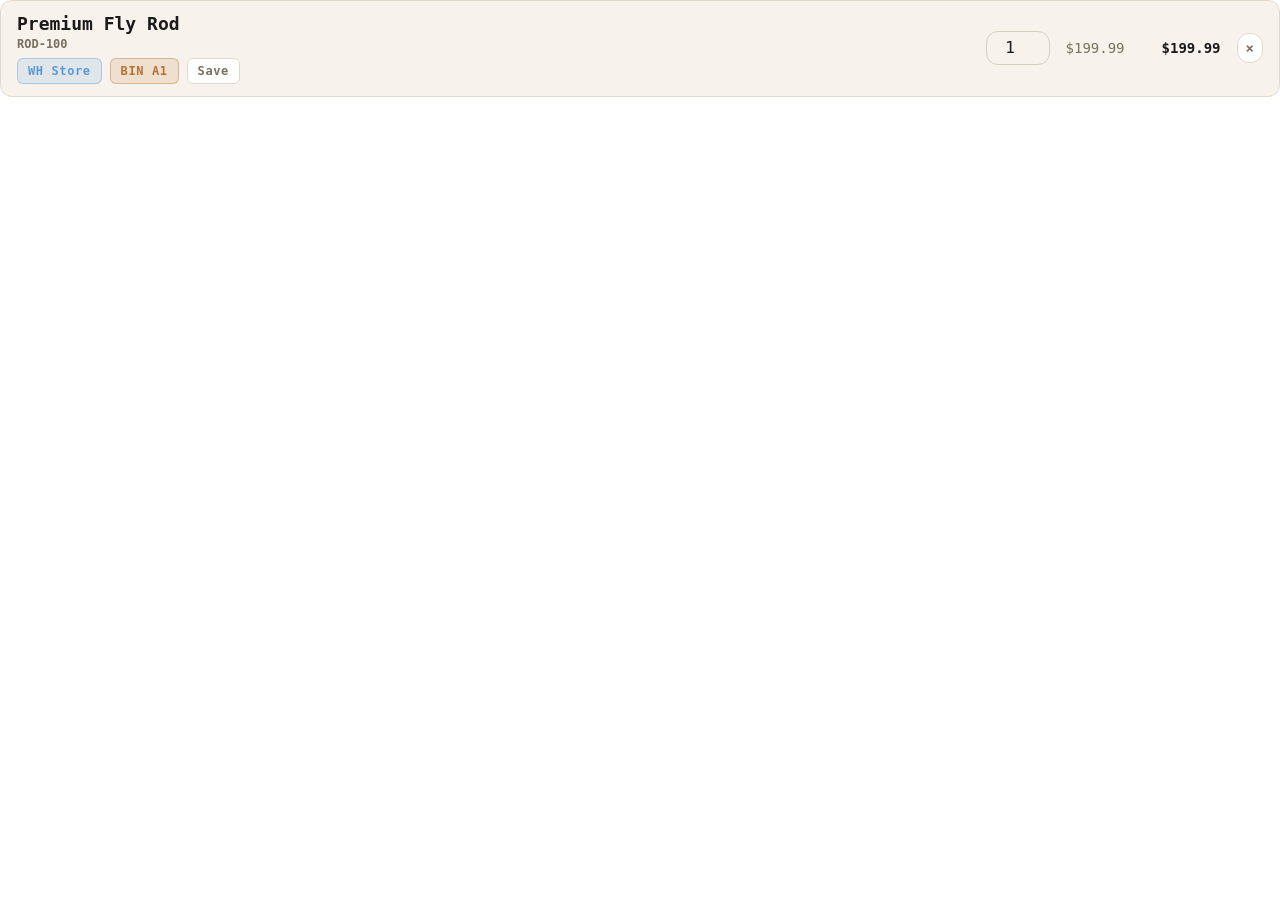
Test: <Cart> › opens the BinPicker when the bin badge is clicked
Click the button with aria-label "change bin for rod-100".
click(144, 70)  # box [110,58,179,84]
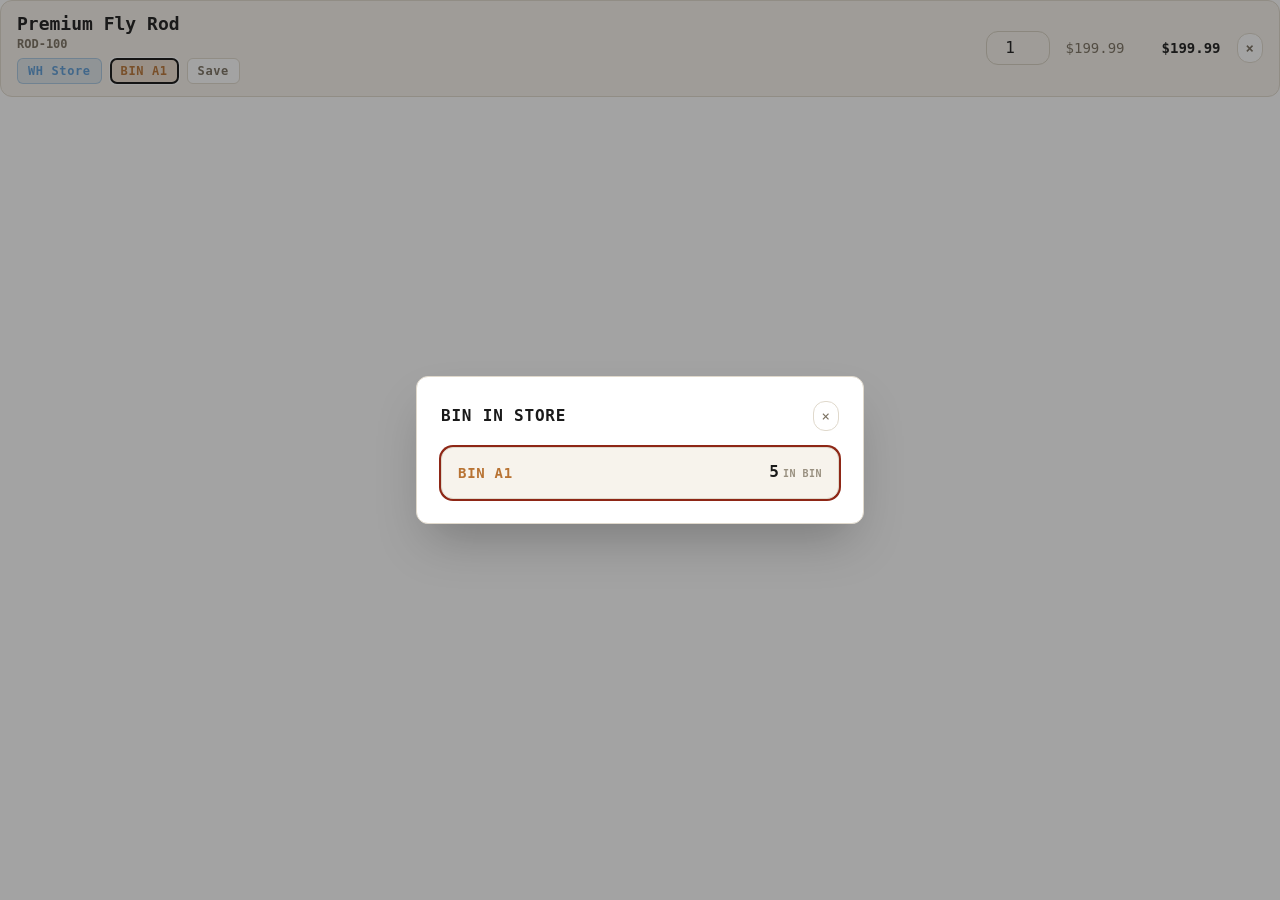
expect the dialog "Bin in Store × BIN A1 5in bin" is shown: met
